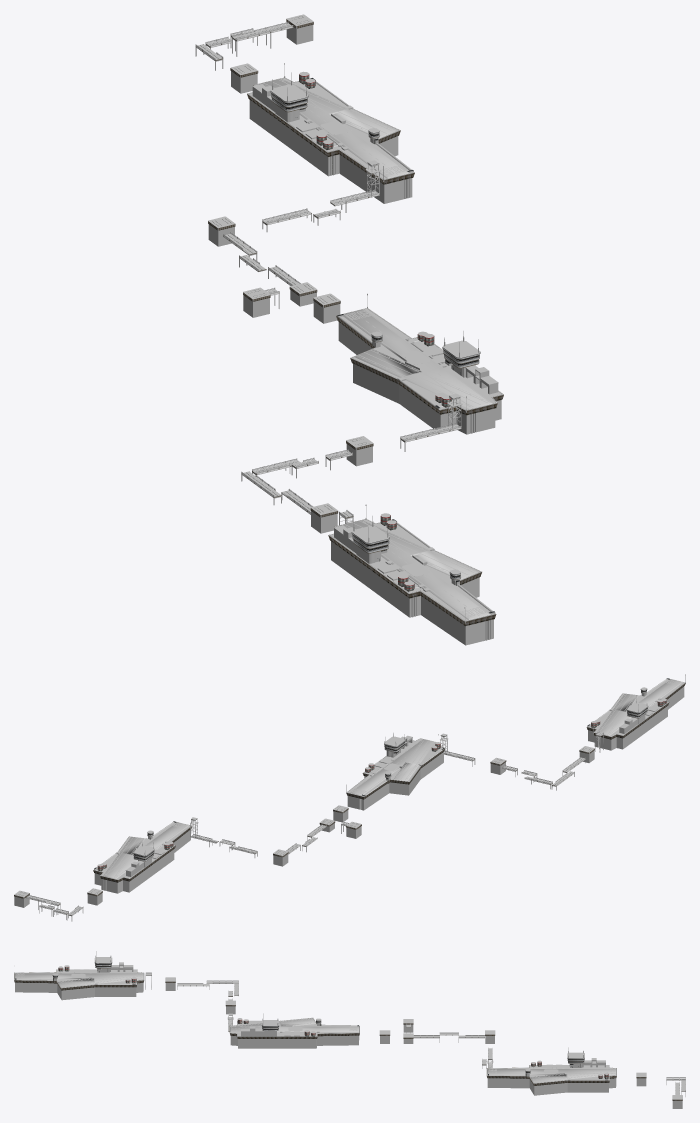
Rendered from BedPretty.obj.
3 views of the same model, one above another, from view 1: azimuth 30°, elevation 25°; view 2: azimuth 150°, elevation 25°; view 3: azimuth 270°, elevation 25° (orthographic). The views are drawn at different scales.
Bounding box in the file's own units: 5112 × 588 × 11348.
